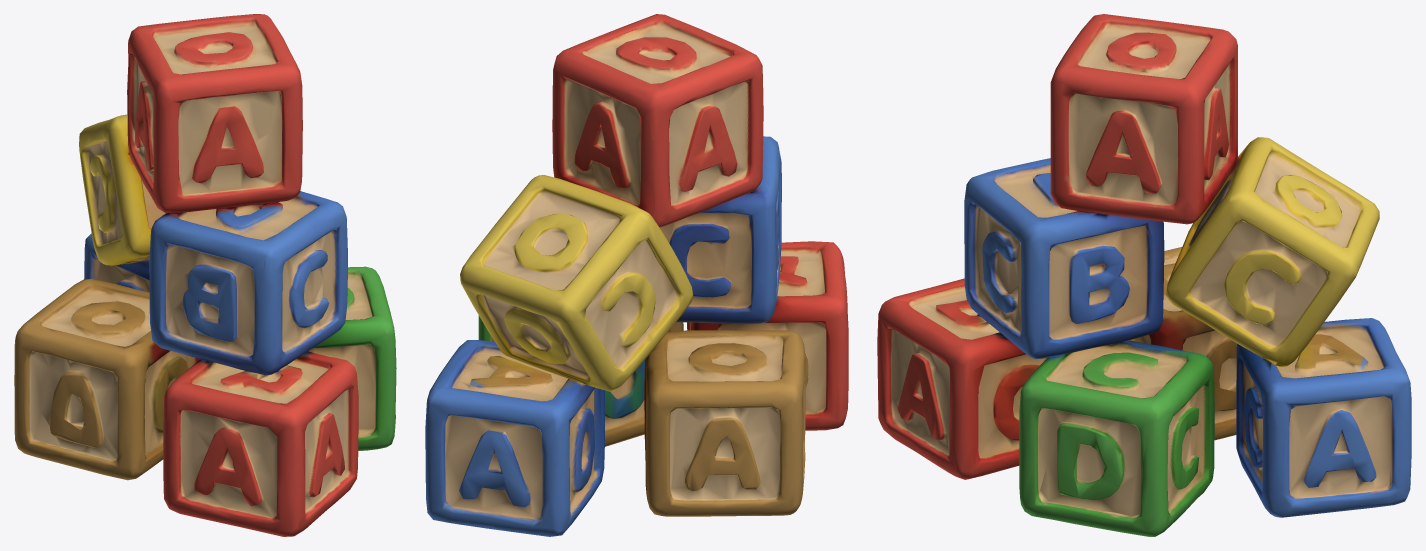
Rendered from toy_blocks.glb.
3 renders of one model, left to right at view 1: azimuth 30°, elevation 25°; view 2: azimuth 150°, elevation 25°; view 3: azimuth 270°, elevation 25°, orthographic. The views are drawn at different scales.
Parts seen in each view (by area): view 1: tripo_node_5727a4ea-958e-4257-b4ee-5db1a471e004; view 2: tripo_node_5727a4ea-958e-4257-b4ee-5db1a471e004; view 3: tripo_node_5727a4ea-958e-4257-b4ee-5db1a471e004.
Boxes of the visible parts, x1,y1,x2,y2 form: tripo_node_5727a4ea-958e-4257-b4ee-5db1a471e004: (14, 14, 396, 536); tripo_node_5727a4ea-958e-4257-b4ee-5db1a471e004: (425, 14, 848, 536); tripo_node_5727a4ea-958e-4257-b4ee-5db1a471e004: (877, 14, 1411, 536).
Bounding box in the file's own units: 0.7616 × 0.8442 × 1.
Materials: 1 (1 with a texture image).
